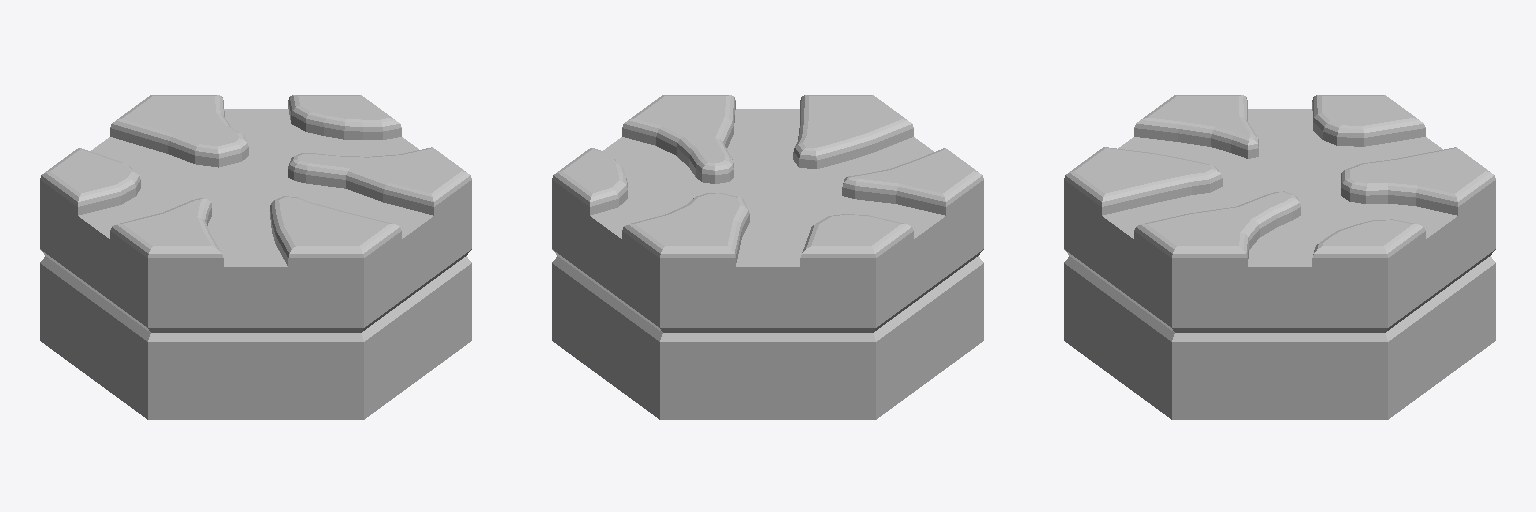
File: hex_sand_roadM_detail.obj
The picture shows the model from 3 angles: view 1: azimuth 30°, elevation 25°; view 2: azimuth 150°, elevation 25°; view 3: azimuth 270°, elevation 25°; orthographic projection.
Parts seen in each view (by area): view 1: hex_sand_roadM_detail_Cylinder.615; view 2: hex_sand_roadM_detail_Cylinder.615; view 3: hex_sand_roadM_detail_Cylinder.615.
Boxes of the visible parts, box(x1,y1,x2,y2) form: hex_sand_roadM_detail_Cylinder.615: box(40, 95, 471, 419); hex_sand_roadM_detail_Cylinder.615: box(552, 95, 983, 419); hex_sand_roadM_detail_Cylinder.615: box(1064, 95, 1495, 419).
Bounding box in the file's own units: 2 × 1 × 2.31.